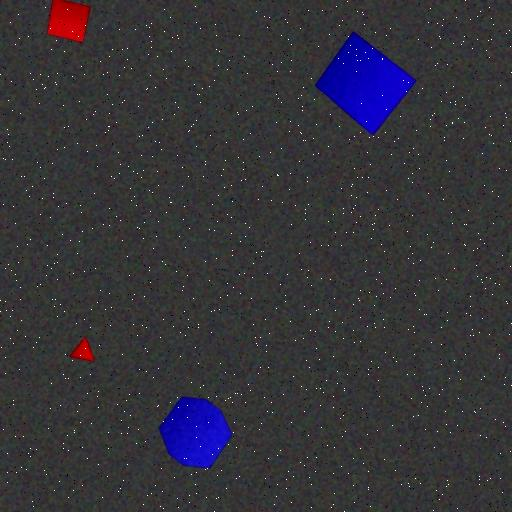BLUE_SQUARE: (314, 30, 418, 137)
RED_SQUARE: (46, 0, 92, 43)
